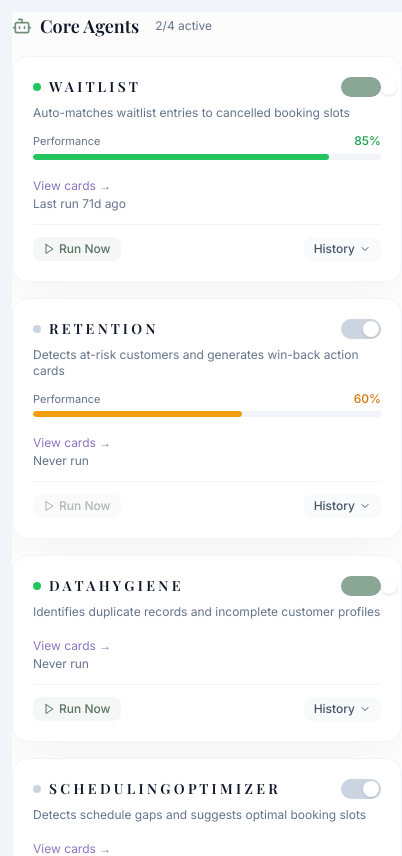
AIAgentsPage › expands run history on click
Click the button with test id "expand-WAITLIST": (342, 248) [304, 236, 381, 260]
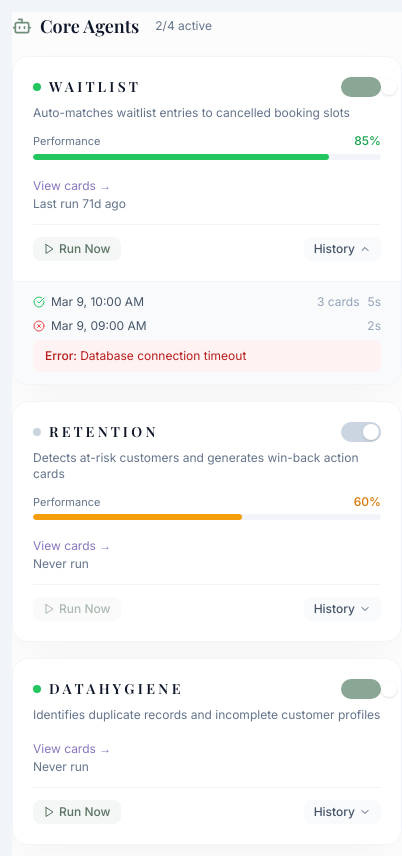
Expected: the element with test id "history-WAITLIST" is shown, [13, 280, 401, 384]
